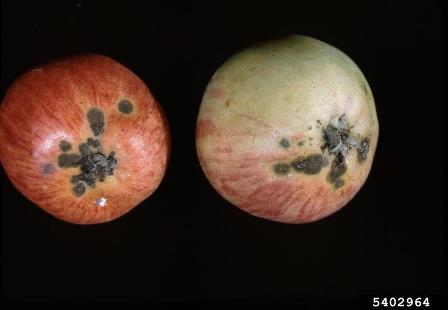defect: (43, 90, 138, 203), (269, 112, 379, 196)
